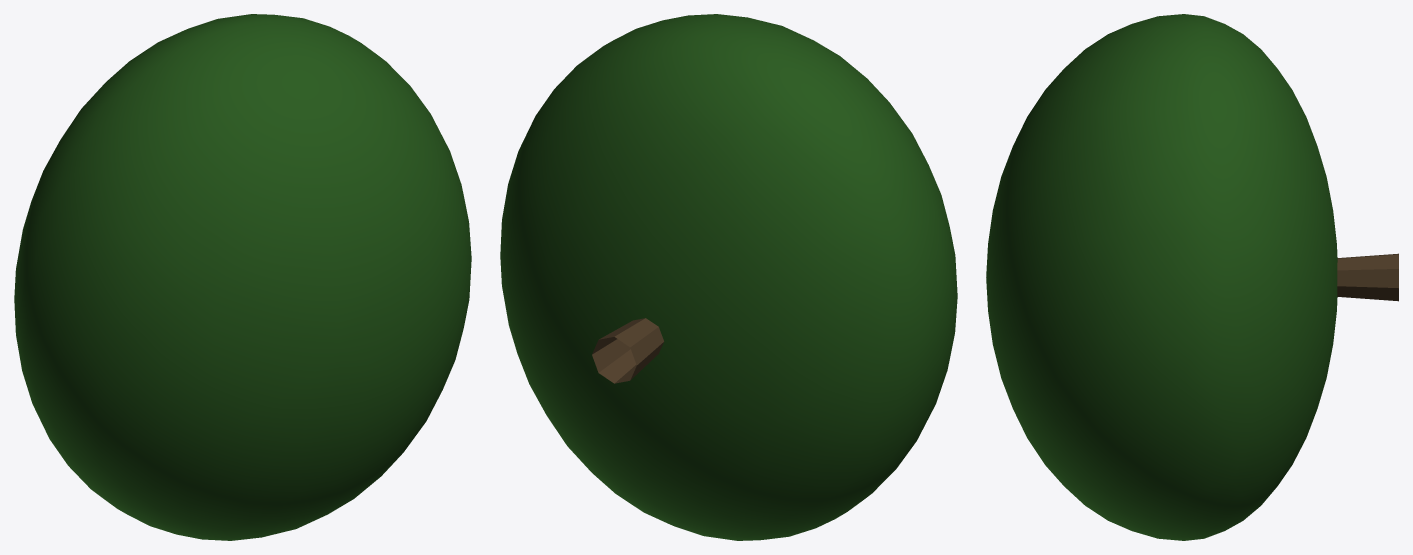
The model's file is citrus_plain_e.obj.
The picture shows the model from 3 angles, left to right: view 1: azimuth 30°, elevation 25°; view 2: azimuth 150°, elevation 25°; view 3: azimuth 270°, elevation 25°; orthographic projection. The views are drawn at different scales.
Parts seen in each view (by area): view 1: canopy; view 2: canopy, trunk; view 3: canopy, trunk.
Boxes of the visible parts, x1=… form: canopy: x1=14, y1=14, x2=471, y2=540; canopy: x1=500, y1=14, x2=957, y2=540; trunk: x1=592, y1=318, x2=664, y2=383; canopy: x1=986, y1=14, x2=1337, y2=540; trunk: x1=1337, y1=253, x2=1398, y2=301.
Bounding box in the file's own units: 2.91 × 3.31 × 2.54.
